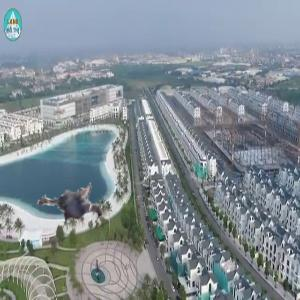drone: (34, 167, 118, 251)
